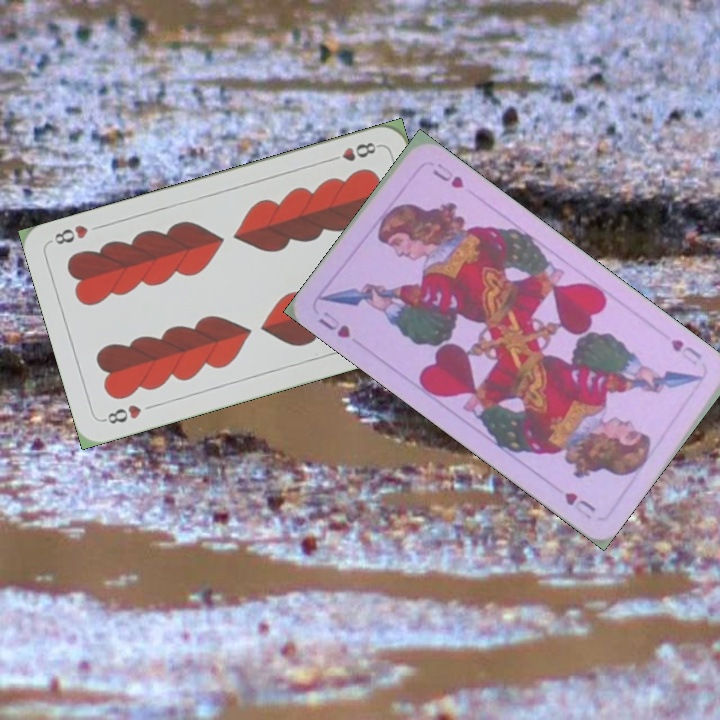H8: (325, 138, 383, 165), (99, 400, 144, 427)
HU: (314, 307, 353, 341), (666, 335, 705, 368)
